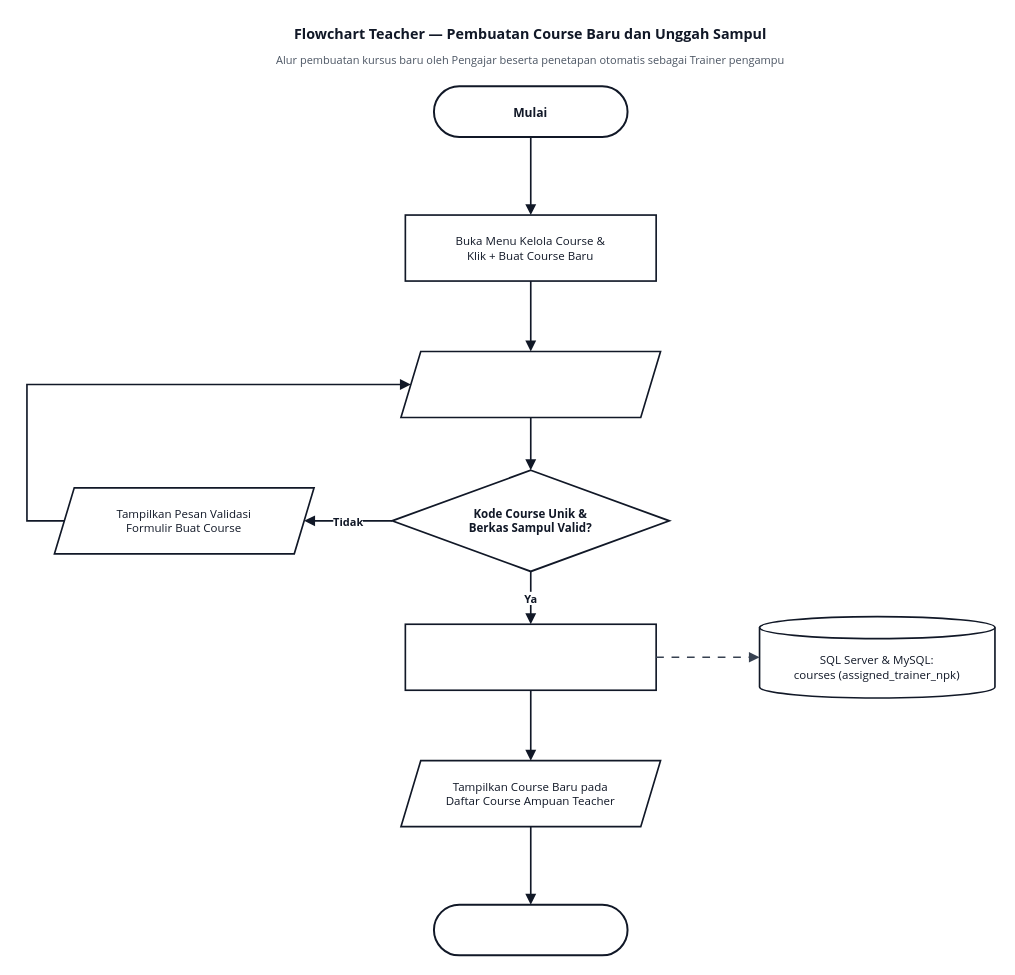
This 1015x975 diagram has some shape labels left out. Here are the shapes that lost their labels. From the top down, the centre of each, then its label:
At (530,384): "Input Kode Course, Judul, Kategori (Wajib/Pilihan), Deskripsi & Sampul".
At (530,657): "Simpan Course dengan Trainer = NPK Teacher & Sinkronkan Katalog".
At (530,929): "Selesai".
